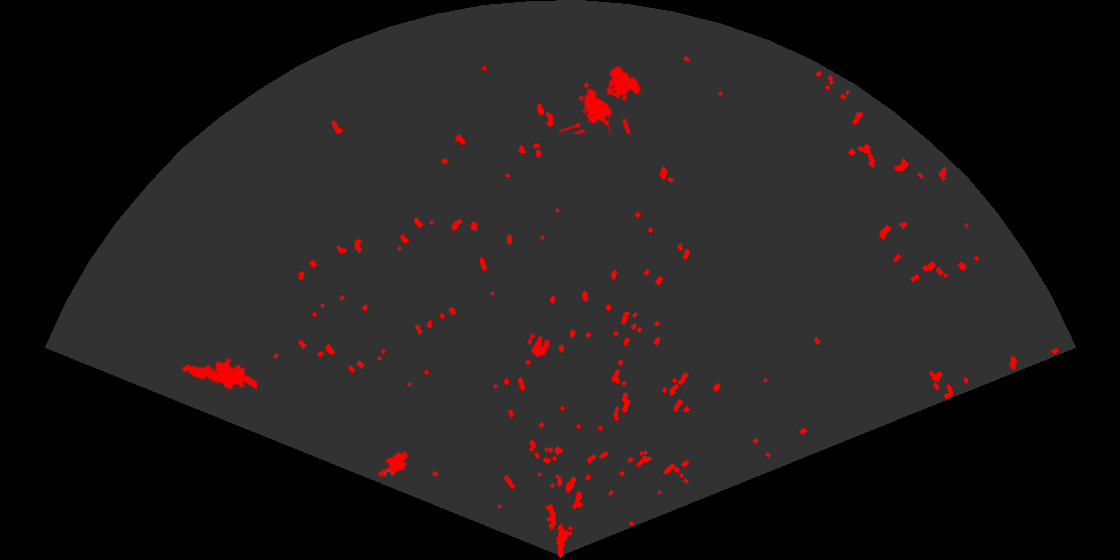AUV: (376, 450, 410, 478)
ball: (526, 331, 552, 359)
cage: (559, 64, 643, 134)
frogman: (180, 356, 257, 392)
